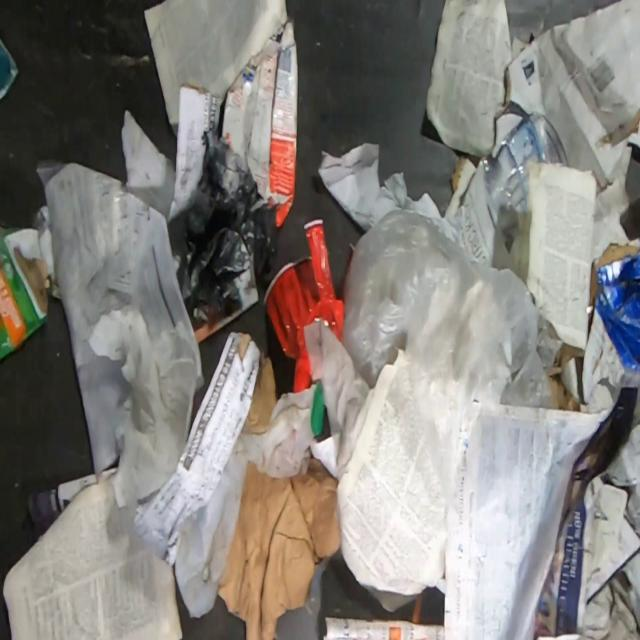cardboard: (443, 0, 640, 288), (219, 13, 300, 235), (582, 242, 640, 404), (0, 218, 49, 361)
rigid_plastic: (261, 218, 346, 392)
soft_plastic: (340, 212, 558, 502), (36, 160, 187, 476), (174, 126, 278, 318), (593, 501, 608, 519)
